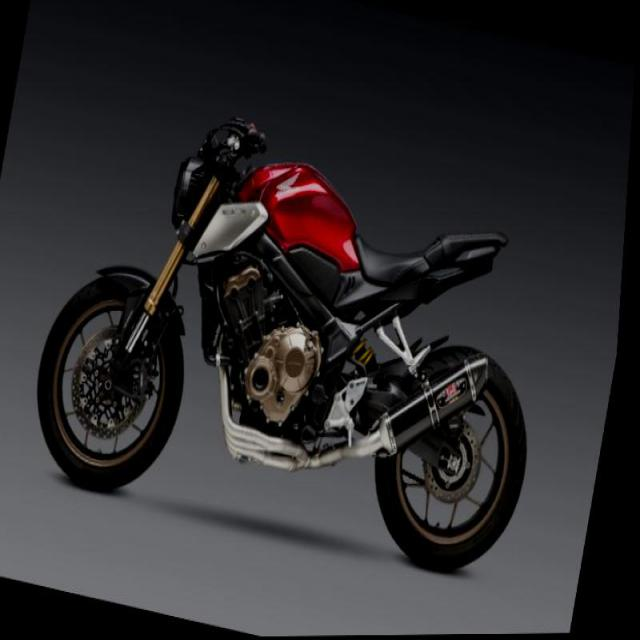CB650R: (22, 104, 577, 590)
